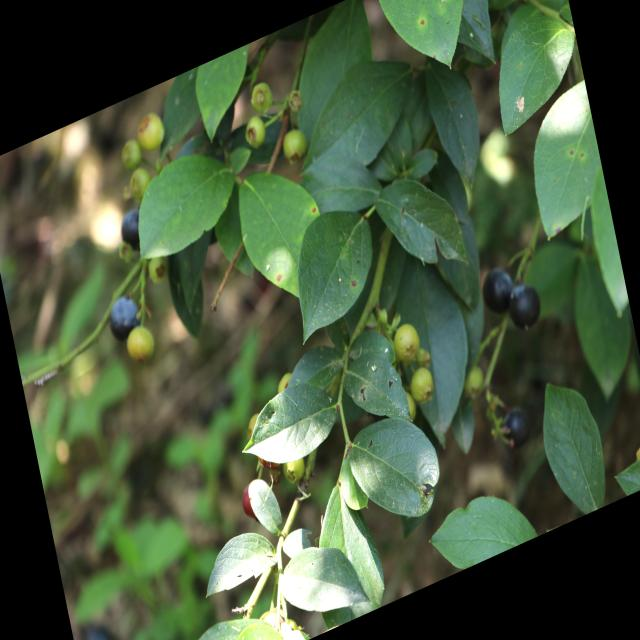blueberry: (504, 275, 546, 339), (103, 288, 144, 346), (477, 262, 515, 321), (116, 202, 154, 259), (498, 402, 534, 451)
blueberry-halfripe: (237, 476, 266, 525)
blueberry-unripe: (386, 316, 424, 372), (132, 104, 170, 156), (121, 318, 158, 370), (278, 120, 313, 171), (124, 156, 155, 205), (240, 108, 271, 153), (408, 360, 437, 407), (247, 74, 277, 118), (117, 133, 143, 173), (281, 447, 307, 487), (244, 406, 265, 442), (274, 370, 295, 400)
